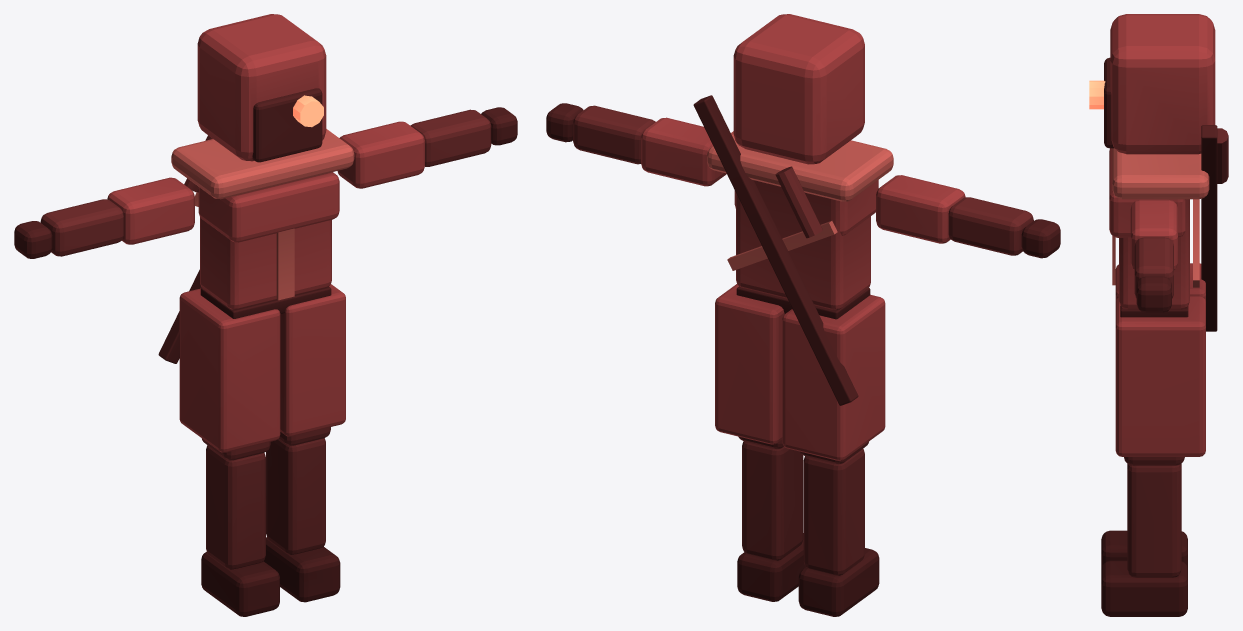
The model's file is enemy_sniper.glb.
The picture shows the model from 3 angles, left to right: view 1: azimuth 30°, elevation 25°; view 2: azimuth 150°, elevation 25°; view 3: azimuth 270°, elevation 25°; orthographic projection. The views are drawn at different scales.
Visible parts, largest first — view 1: sniper; view 2: sniper; view 3: sniper.
Boxes of the visible parts, x1,y1,x2,y2 form: sniper: (14,14,517,616); sniper: (546,14,1060,616); sniper: (1089,14,1228,616).
Size of the model in its own units: 1.8 by 1.93 by 0.4315.
